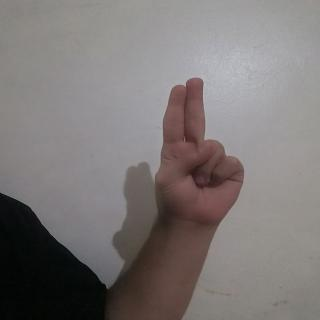TA: (136, 74, 264, 226)
